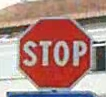stop: (16, 14, 94, 89)
